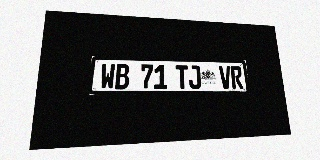1: (154, 64, 167, 89)
7: (140, 64, 153, 89)
B: (115, 64, 129, 89)
J: (188, 65, 201, 89)
R: (230, 66, 243, 89)
T: (175, 65, 189, 89)
V: (219, 66, 232, 89)
W: (100, 63, 115, 89)
